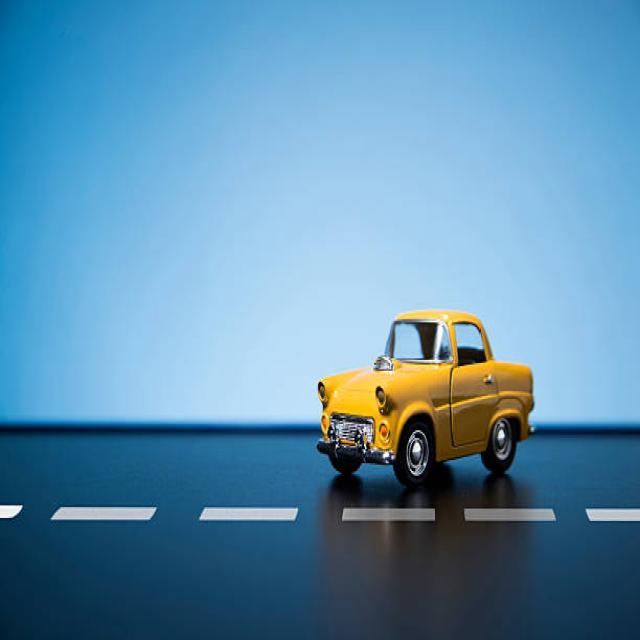Car: (316, 308, 534, 487)
